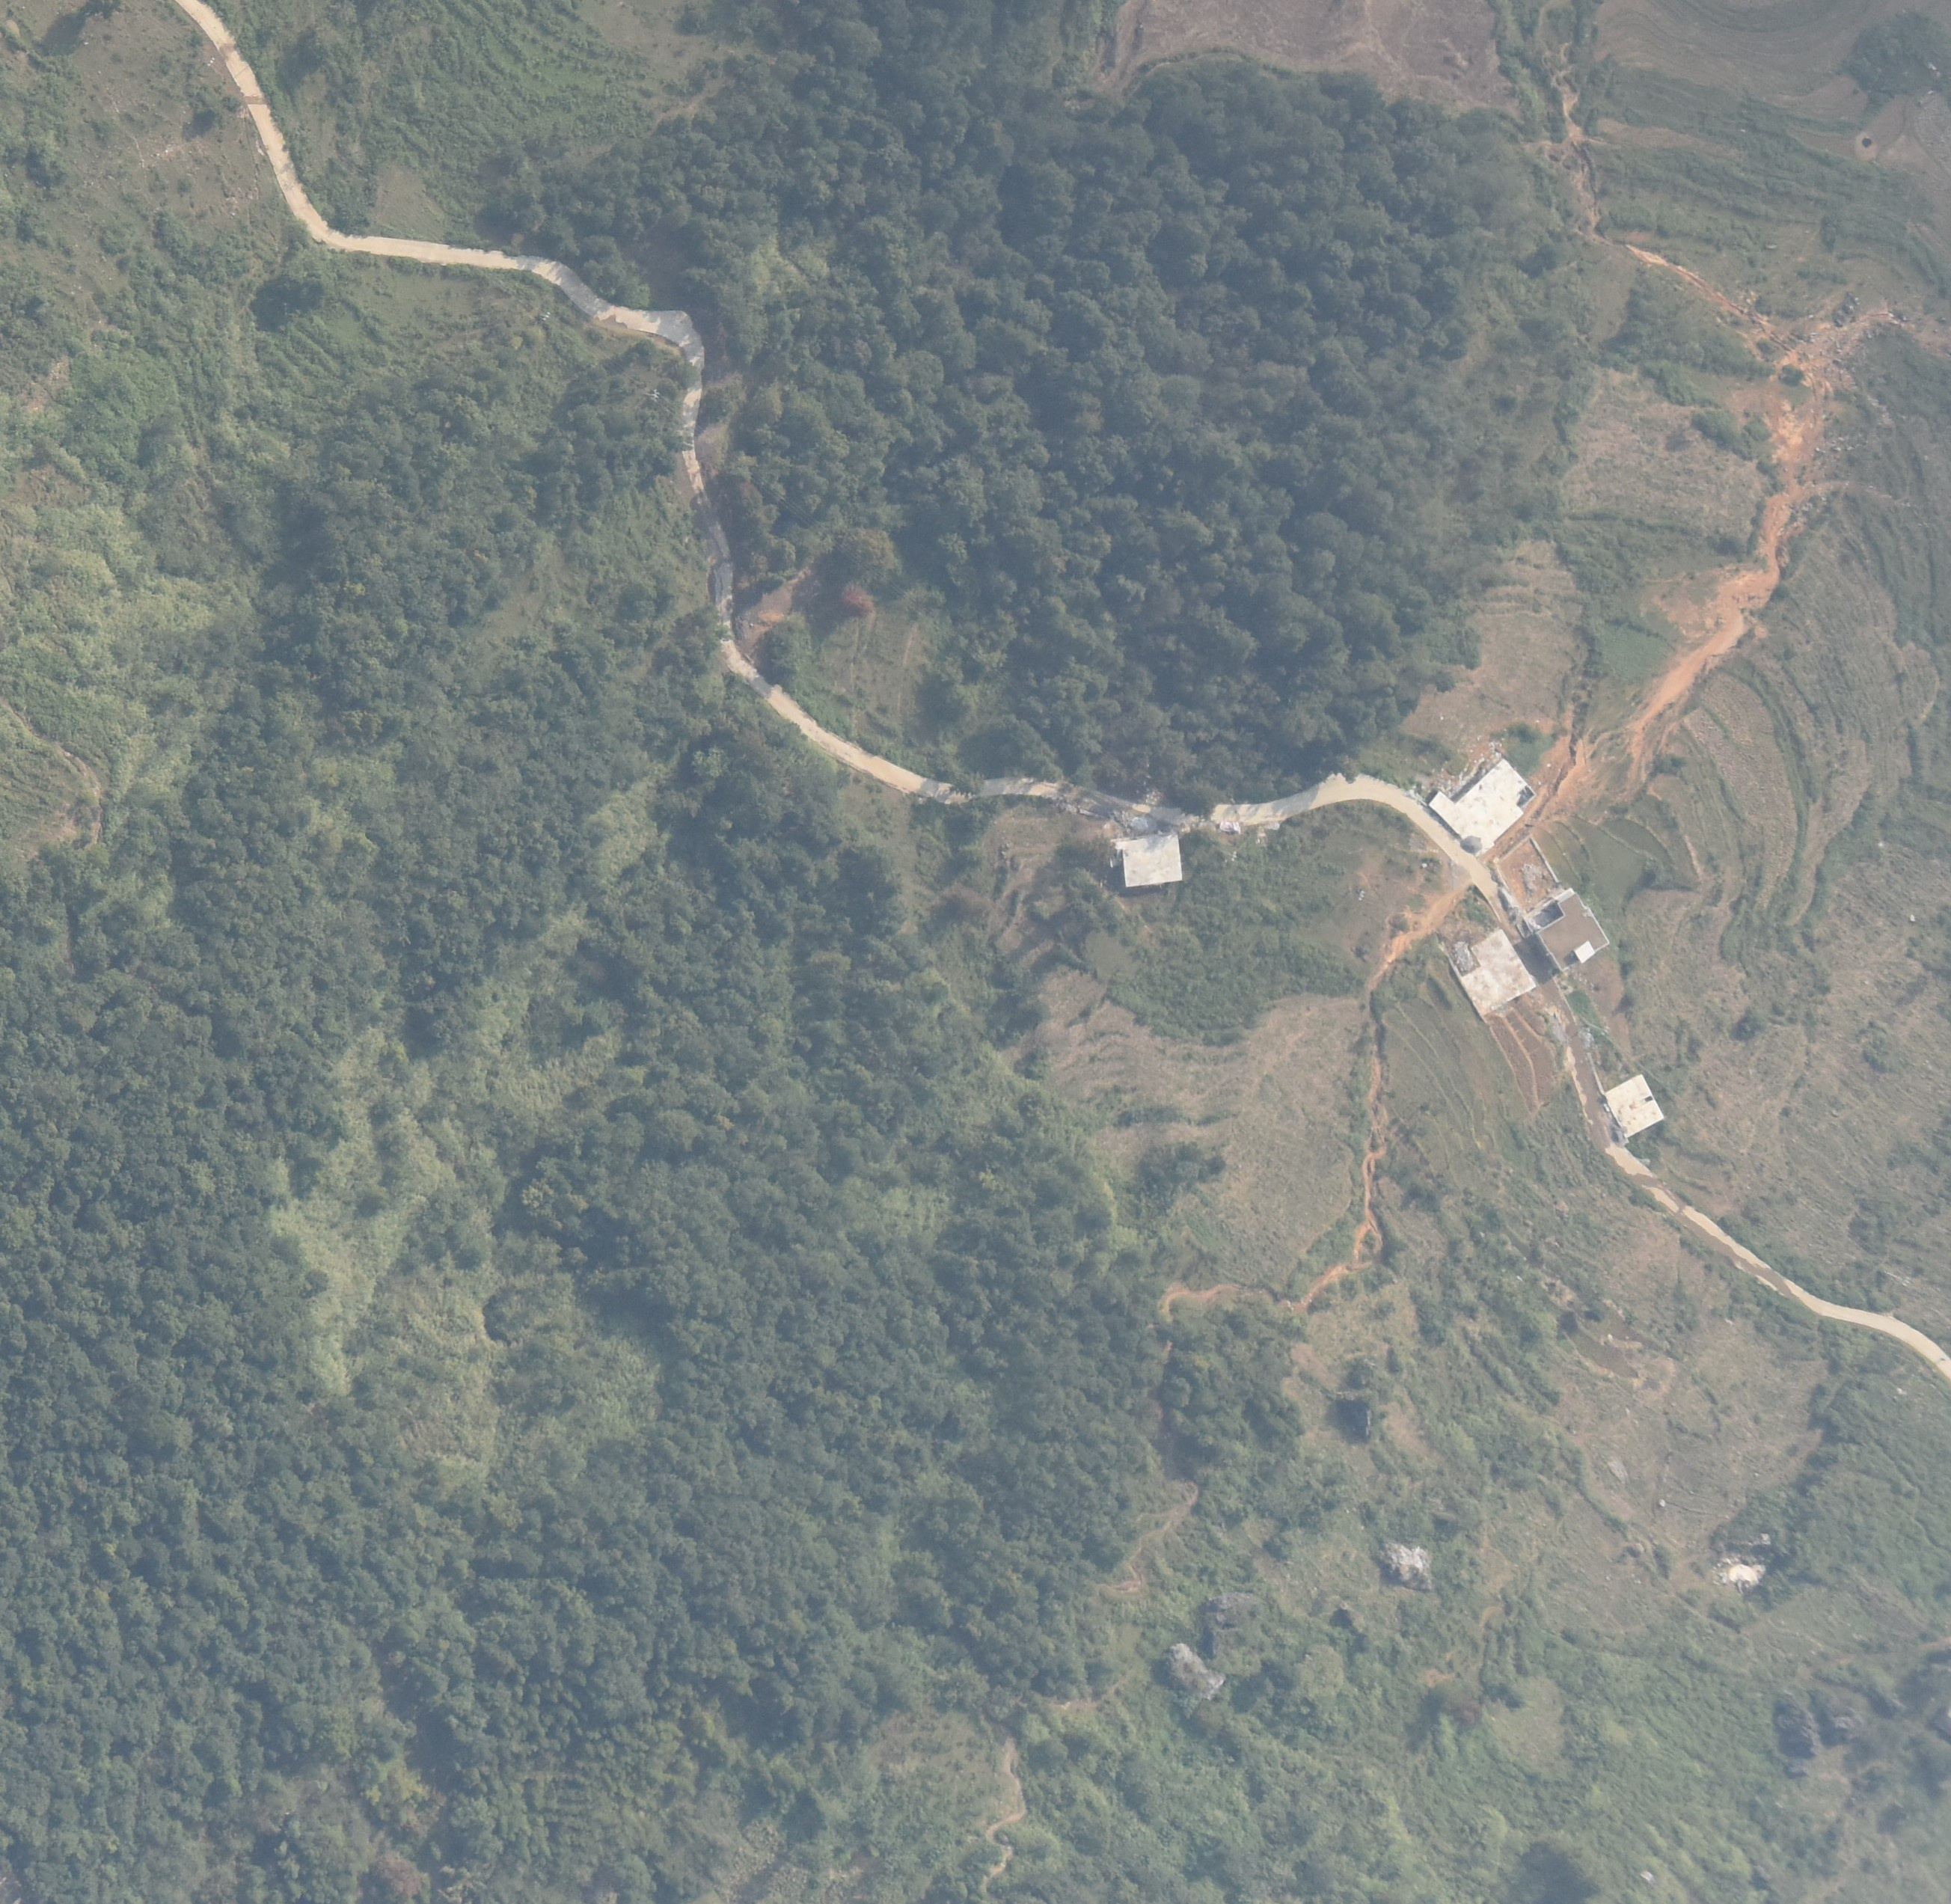building: (1421, 754, 1549, 863), (1520, 884, 1620, 984), (1436, 925, 1538, 1019), (1110, 827, 1195, 897), (1602, 1072, 1668, 1140)
